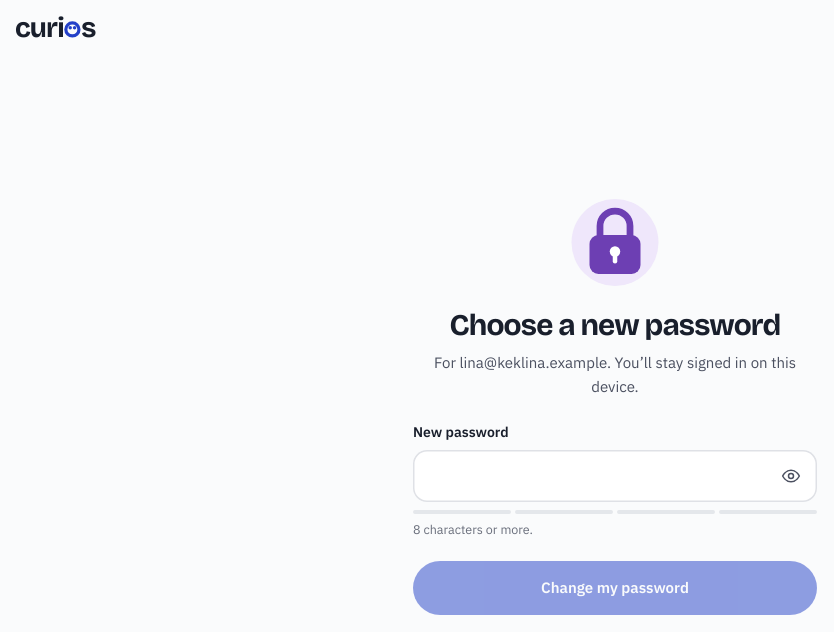
ResetForm › turns a link that went bad meanwhile into the broken-link screen
Type "a-long-enough-passphrase" into the password field labelled "New password". click: (600, 476)
box: [429,452,771,500]
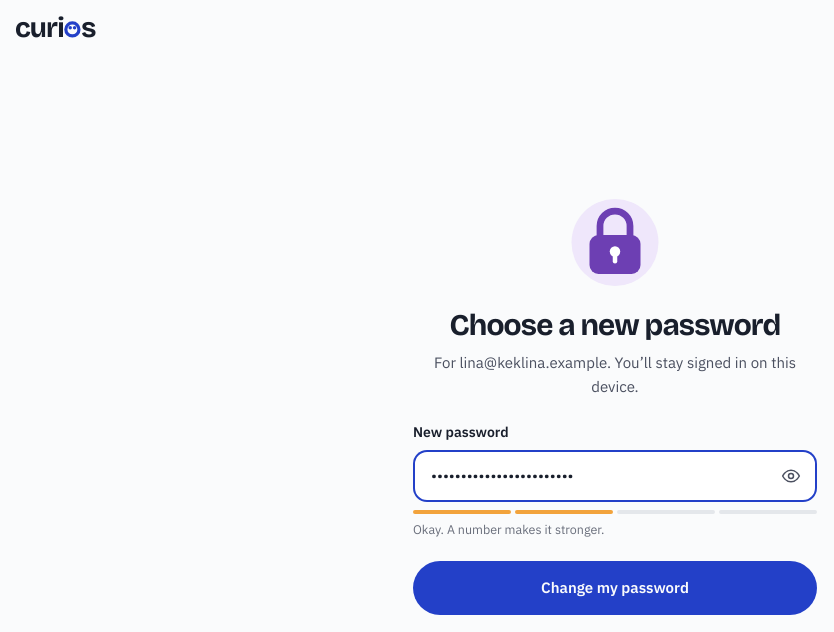
Click the button "Change my password". click: (615, 588)
box: [413,561,817,615]
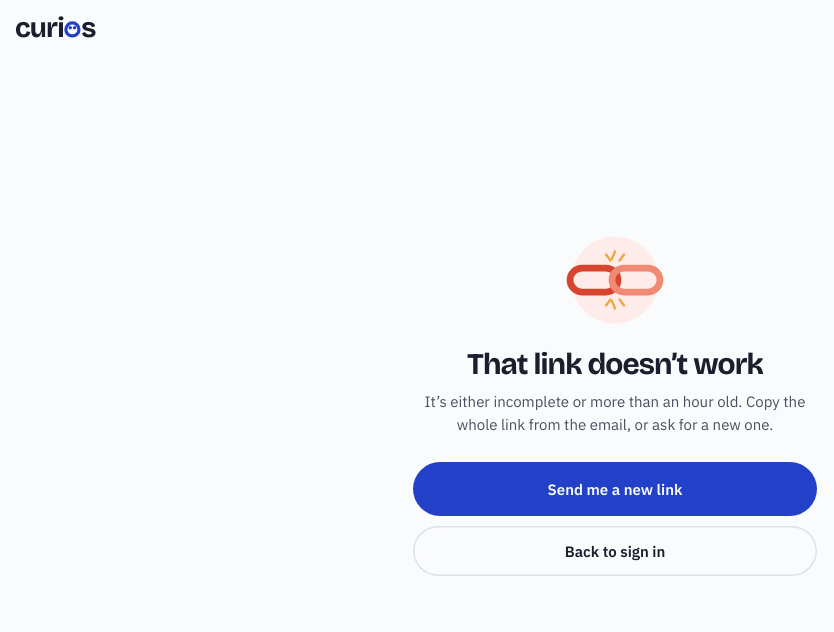
Result: the heading "That link doesn’t work" is shown at [467,346,763,382]
